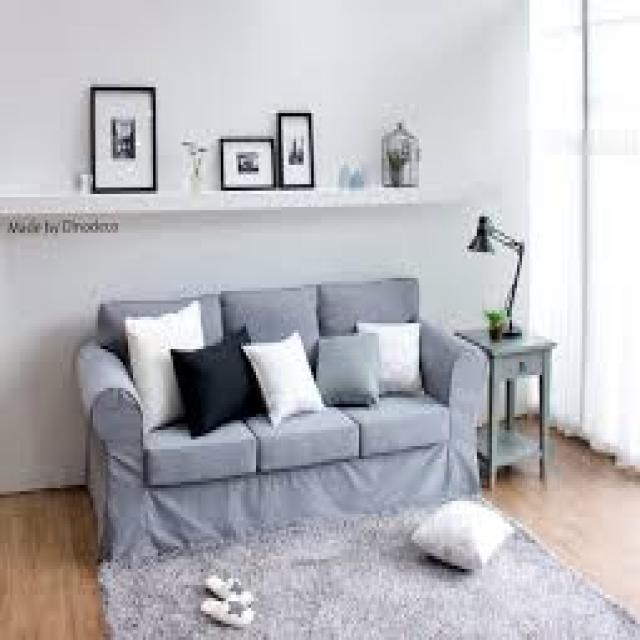Sofa: (69, 259, 497, 593)
